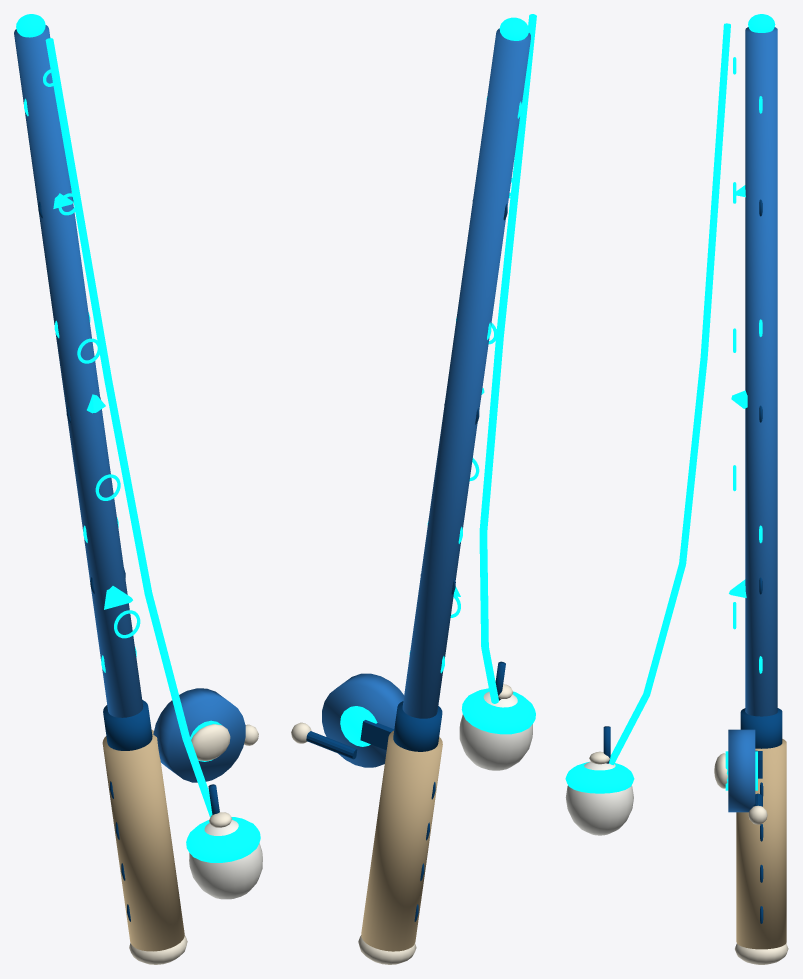
The model's file is ocean rod11.fbx.
3 renders of one model, left to right at view 1: azimuth 30°, elevation 25°; view 2: azimuth 150°, elevation 25°; view 3: azimuth 270°, elevation 25°, orthographic. The views are drawn at different scales.
Visible parts, largest first — view 1: Ocean_Rod_Clean_One_Piece; view 2: Ocean_Rod_Clean_One_Piece; view 3: Ocean_Rod_Clean_One_Piece.
Part boxes in pixels (x1,y1,x2,y2): Ocean_Rod_Clean_One_Piece: (14,14,262,964); Ocean_Rod_Clean_One_Piece: (291,14,536,964); Ocean_Rod_Clean_One_Piece: (565,14,788,964).
Size of the model in its own units: 70.22 by 273 by 62.1.
